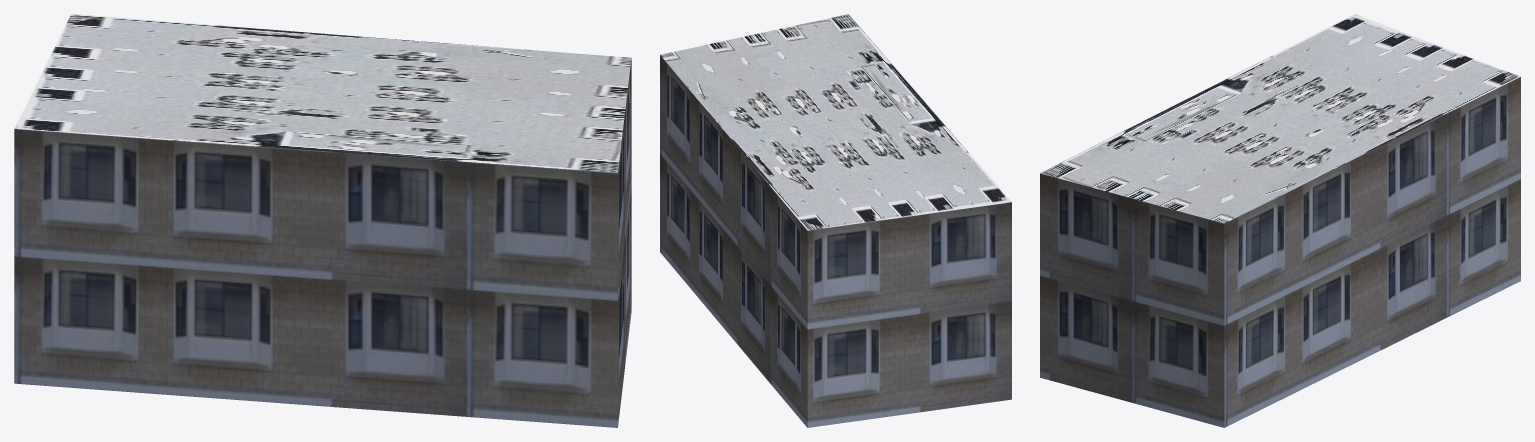
The model's file is ResTex__4922.fbx.
3 views of the same model, side by side, from view 1: azimuth 30°, elevation 25°; view 2: azimuth 150°, elevation 25°; view 3: azimuth 270°, elevation 25° (orthographic). The views are drawn at different scales.
Parts seen in each view (by area): view 1: CityEngineMaterial_3_m, CityEngineMaterial_4_m; view 2: CityEngineMaterial_3_m, CityEngineMaterial_4_m; view 3: CityEngineMaterial_3_m, CityEngineMaterial_4_m.
Boxes of the visible parts, bbox=[...] form: CityEngineMaterial_3_m: bbox=[14, 58, 631, 427]; CityEngineMaterial_4_m: bbox=[14, 14, 631, 173]; CityEngineMaterial_3_m: bbox=[660, 55, 1011, 427]; CityEngineMaterial_4_m: bbox=[660, 14, 1011, 230]; CityEngineMaterial_3_m: bbox=[1040, 77, 1520, 427]; CityEngineMaterial_4_m: bbox=[1040, 14, 1520, 223].
Size of the model in its own units: 13.2 by 6 by 12.8.
Materials: 2 (2 with a texture image).
